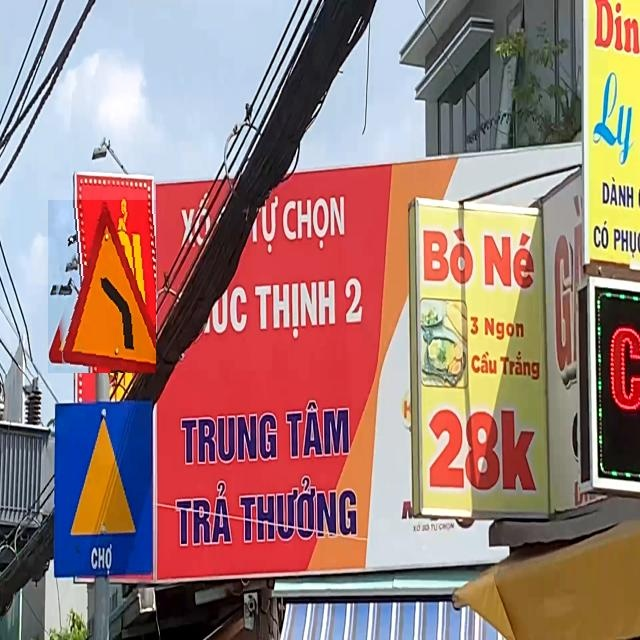bien_nguy_hiem: (48, 200, 156, 373)
